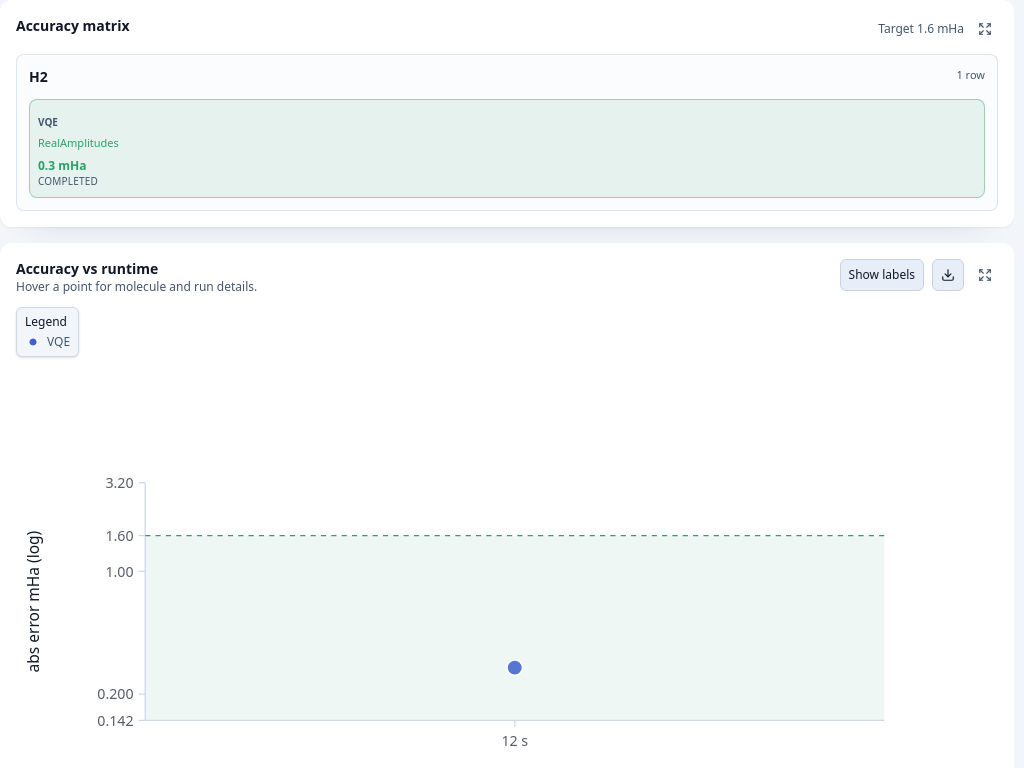
it: BenchmarkInsights › opens the accuracy matrix in a fullscreen dialog
The image size is (1024, 768).
Click the button named "expand accuracy matrix fullscreen" at (985, 29), box [972, 16, 998, 42]
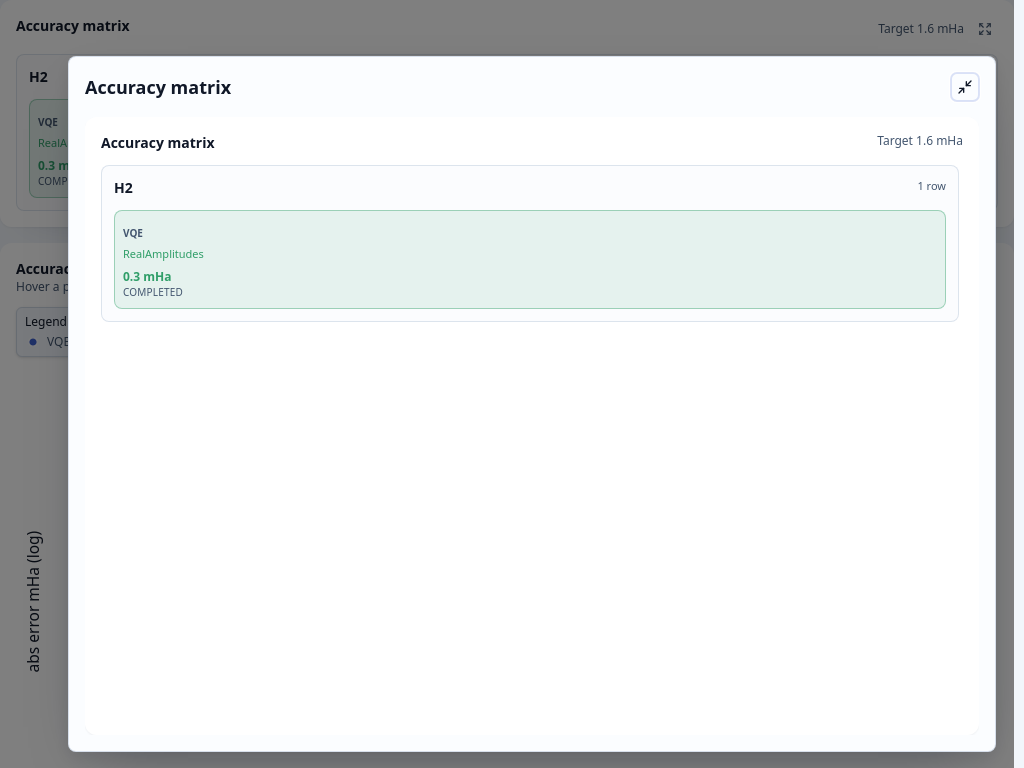
expect the dialog "Accuracy matrix" is shown: met
